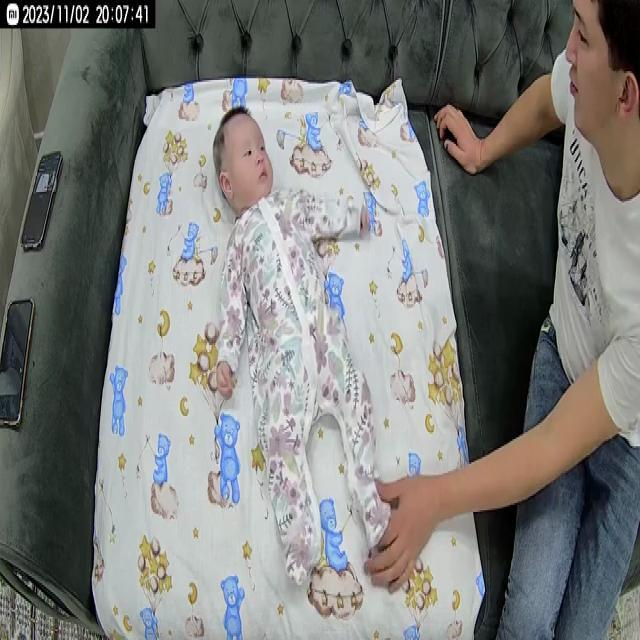baby: (206, 104, 400, 586)
